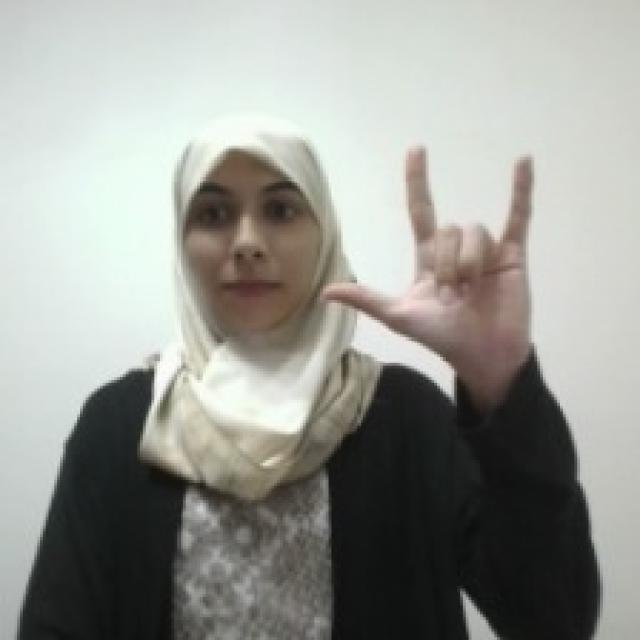love: (316, 138, 539, 350)
